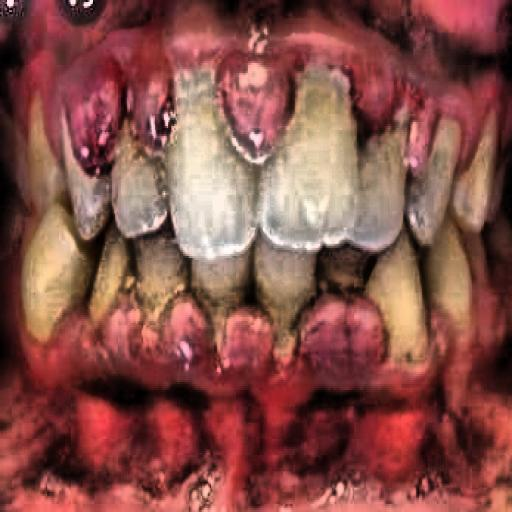Gingivitis: (21, 286, 410, 436), (336, 42, 512, 190), (14, 44, 183, 174), (202, 17, 313, 168)
